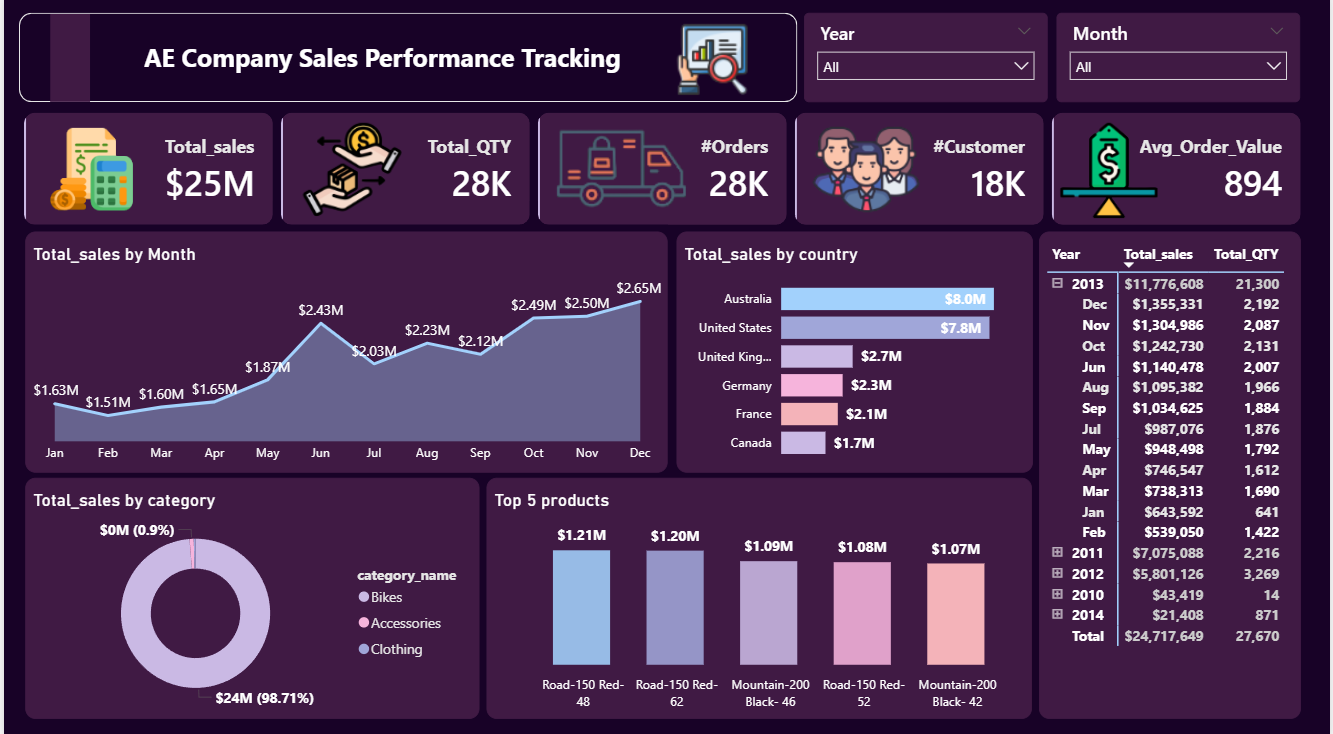

This screenshot's page, from the dashboard's own definition file:
{"tool":"powerbi","page":{"name":"AE Company Sales Performance Tracking","canvas":[1280,720],"ordinal":0},"visuals":[{"type":"shape","box":[15,17.5,751.2,86.2],"z":0},{"type":"shape","box":[45,18.8,38.8,85],"z":1000},{"type":"image","box":[612.5,0,133.8,117.5],"z":2000},{"type":"cardVisual","fields":{"Data":["DAX_Measure.Total_sales","DAX_Measure.Total_QTY","DAX_Measure.#Orders","DAX_Measure.#Customer","DAX_Measure.AOV"]},"box":[15,109.6,1243.8,118.8],"z":3000},{"type":"image","box":[45,119.6,87.5,98.8],"z":4000},{"type":"image","box":[261.2,112.1,150,115],"z":5000},{"type":"image","box":[525,118.3,145,103.8],"z":6000},{"type":"image","box":[772.5,120.8,120,97.5],"z":7000},{"type":"image","box":[1007.5,120.8,120,98.8],"z":8000},{"type":"slicer","fields":{"Values":["dim_date.Year"]},"box":[772.5,17.5,235,86.2],"z":9000},{"type":"slicer","fields":{"Values":["dim_date.Month"]},"box":[1016.2,17.5,235,86.2],"z":10000},{"type":"stackedAreaChart","fields":{"Y":["DAX_Measure.Total_sales"],"Category":["dim_date.Month"]},"box":[20,229.6,620,232.5],"z":11000},{"type":"clusteredBarChart","fields":{"Category":["dim_customers.country"],"Y":["DAX_Measure.Total_sales"]},"box":[648.8,229.6,343.8,232.5],"z":12000},{"type":"pivotTable","fields":{"Values":["DAX_Measure.Total_sales","DAX_Measure.Total_QTY"],"Rows":["dim_date.Year","dim_date.Month"]},"box":[998.8,229.6,252.5,470],"z":13000},{"type":"donutChart","title":"Total_sales by category","fields":{"Y":["DAX_Measure.Total_sales"],"Category":["dim_products.category_name"]},"box":[20,467.1,438.8,232.5],"z":14000},{"type":"clusteredColumnChart","title":"Top 5 products","fields":{"Y":["DAX_Measure.Total_sales","select"],"Category":["dim_products.product_name"]},"box":[466.2,467.1,526.2,232.5],"z":15000}]}

Visuals, with their boxes in screenshot pixels (x1, y1, x2, y2), scaled from the page's 1280x720 canvas onto the 1333x734 screenshot:
shape: 16:18:798:106
shape: 47:19:87:106
image: 638:0:777:120
cardVisual - DAX_Measure.Total_sales x DAX_Measure.Total_QTY: 16:112:1311:233
image: 47:122:138:223
image: 272:114:428:232
image: 547:121:698:226
image: 804:123:929:223
image: 1049:123:1174:224
slicer - dim_date.Year: 804:18:1049:106
slicer - dim_date.Month: 1058:18:1303:106
stackedAreaChart - DAX_Measure.Total_sales x dim_date.Month: 21:234:666:471
clusteredBarChart - dim_customers.country x DAX_Measure.Total_sales: 676:234:1034:471
pivotTable - DAX_Measure.Total_sales x DAX_Measure.Total_QTY: 1040:234:1303:713
"Total_sales by category" donutChart: 21:476:478:713
"Top 5 products" clusteredColumnChart: 486:476:1033:713
